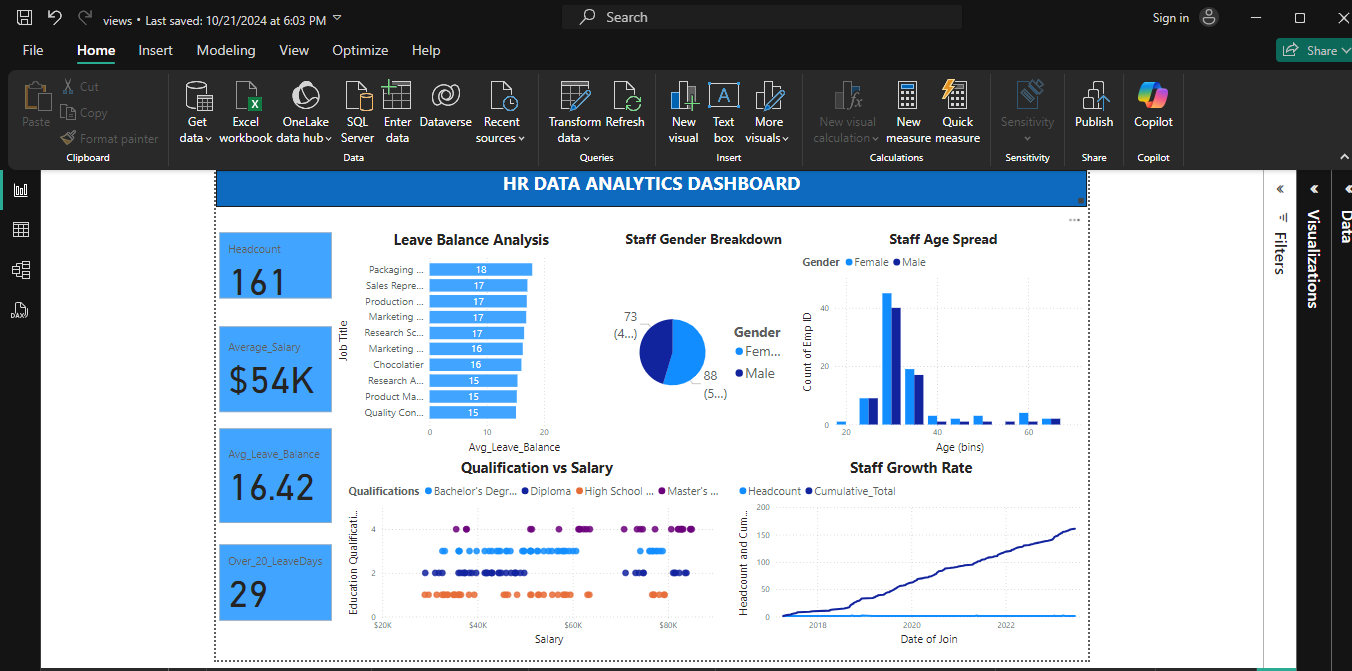

This screenshot's page, from the dashboard's own definition file:
{"tool":"powerbi","page":{"name":"DashBoard","canvas":[1280,720],"ordinal":9},"visuals":[{"type":"cardVisual","fields":{"Data":["data.Headcount"]},"box":[0,86.8,175.3,107.2],"z":0},{"type":"cardVisual","fields":{"Data":["data.Average_Salary"]},"box":[0,224.7,175.3,136.2],"z":1000},{"type":"cardVisual","fields":{"Data":["data.Avg_Leave_Balance"]},"box":[0,374.5,175.3,149.8],"z":2000},{"type":"textbox","title":"HR DATA ANALYTICS DASHBOARD","box":[0,0,1280,54.5],"z":3000},{"type":"cardVisual","fields":{"Data":["data.Over_20_LeaveDays"]},"box":[0,544.7,175.3,122.6],"z":4000},{"type":"pieChart","title":"Staff Gender Breakdown","fields":{"Category":["data.Gender"],"Y":["CountNonNull(data.Emp ID)"]},"box":[471.5,491.9,291.1,228.1],"z":5000},{"type":"scatterChart","title":"Qualification vs Salary","fields":{"X":["data.Salary"],"Y":["Education Qualification Dimension.Education Qualification ID"],"Series":["Education Qualification Dimension.Qualifications"]},"box":[188.9,422.1,563.4,282.6],"z":6000},{"type":"lineChart","title":"Staff Growth Rate","fields":{"Category":["data.Date of Join"],"Y":["data.Headcount","data.Running_Total"]},"box":[762.6,422.1,517.4,282.6],"z":7000},{"type":"barChart","title":"Leave Balance Analysis","fields":{"Y":["data.Avg_Leave_Balance"],"Category":["data.Job Title"]},"box":[175.3,86.8,400,335.3],"z":8000},{"type":"clusteredColumnChart","title":"Staff Age Spread","fields":{"Category":["data.Age (bins)"],"Y":["CountNonNull(data.Emp ID)"],"Series":["data.Gender"]},"box":[856.2,86.8,423.8,335.3],"z":9000},{"type":"pieChart","title":"Staff Gender Breakdown","fields":{"Category":["data.Gender"],"Y":["CountNonNull(data.Emp ID)"]},"box":[575.3,86.8,280.9,335.3],"z":9001}]}

Visuals, with their boxes on the page's 1280x720 design canvas (x1, y1, x2, y2). These are canvas units, not pixel positions in the 1352x671 screenshot, which may show the page scaled, cropped or inside an application window:
cardVisual - data.Headcount: (x1=0, y1=87, x2=175, y2=194)
cardVisual - data.Average_Salary: (x1=0, y1=225, x2=175, y2=361)
cardVisual - data.Avg_Leave_Balance: (x1=0, y1=374, x2=175, y2=524)
"HR DATA ANALYTICS DASHBOARD" textbox: (x1=0, y1=0, x2=1280, y2=54)
cardVisual - data.Over_20_LeaveDays: (x1=0, y1=545, x2=175, y2=667)
"Staff Gender Breakdown" pieChart: (x1=472, y1=492, x2=763, y2=720)
"Qualification vs Salary" scatterChart: (x1=189, y1=422, x2=752, y2=705)
"Staff Growth Rate" lineChart: (x1=763, y1=422, x2=1280, y2=705)
"Leave Balance Analysis" barChart: (x1=175, y1=87, x2=575, y2=422)
"Staff Age Spread" clusteredColumnChart: (x1=856, y1=87, x2=1280, y2=422)
"Staff Gender Breakdown" pieChart: (x1=575, y1=87, x2=856, y2=422)
